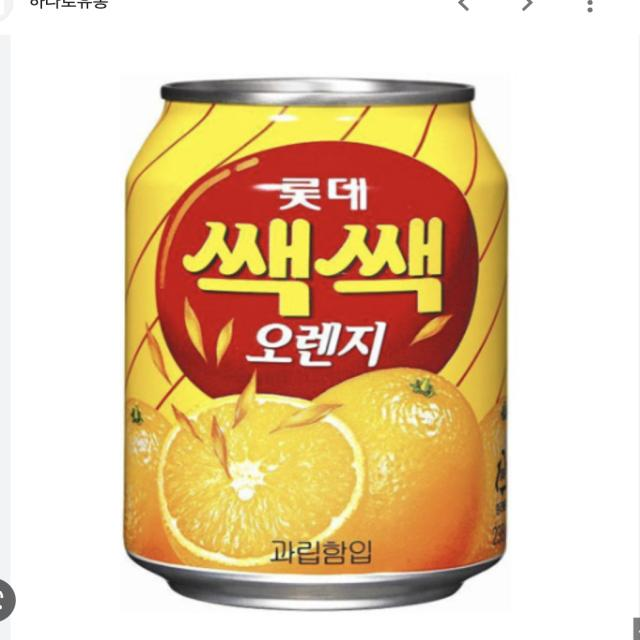recyclable: (84, 48, 561, 630)
